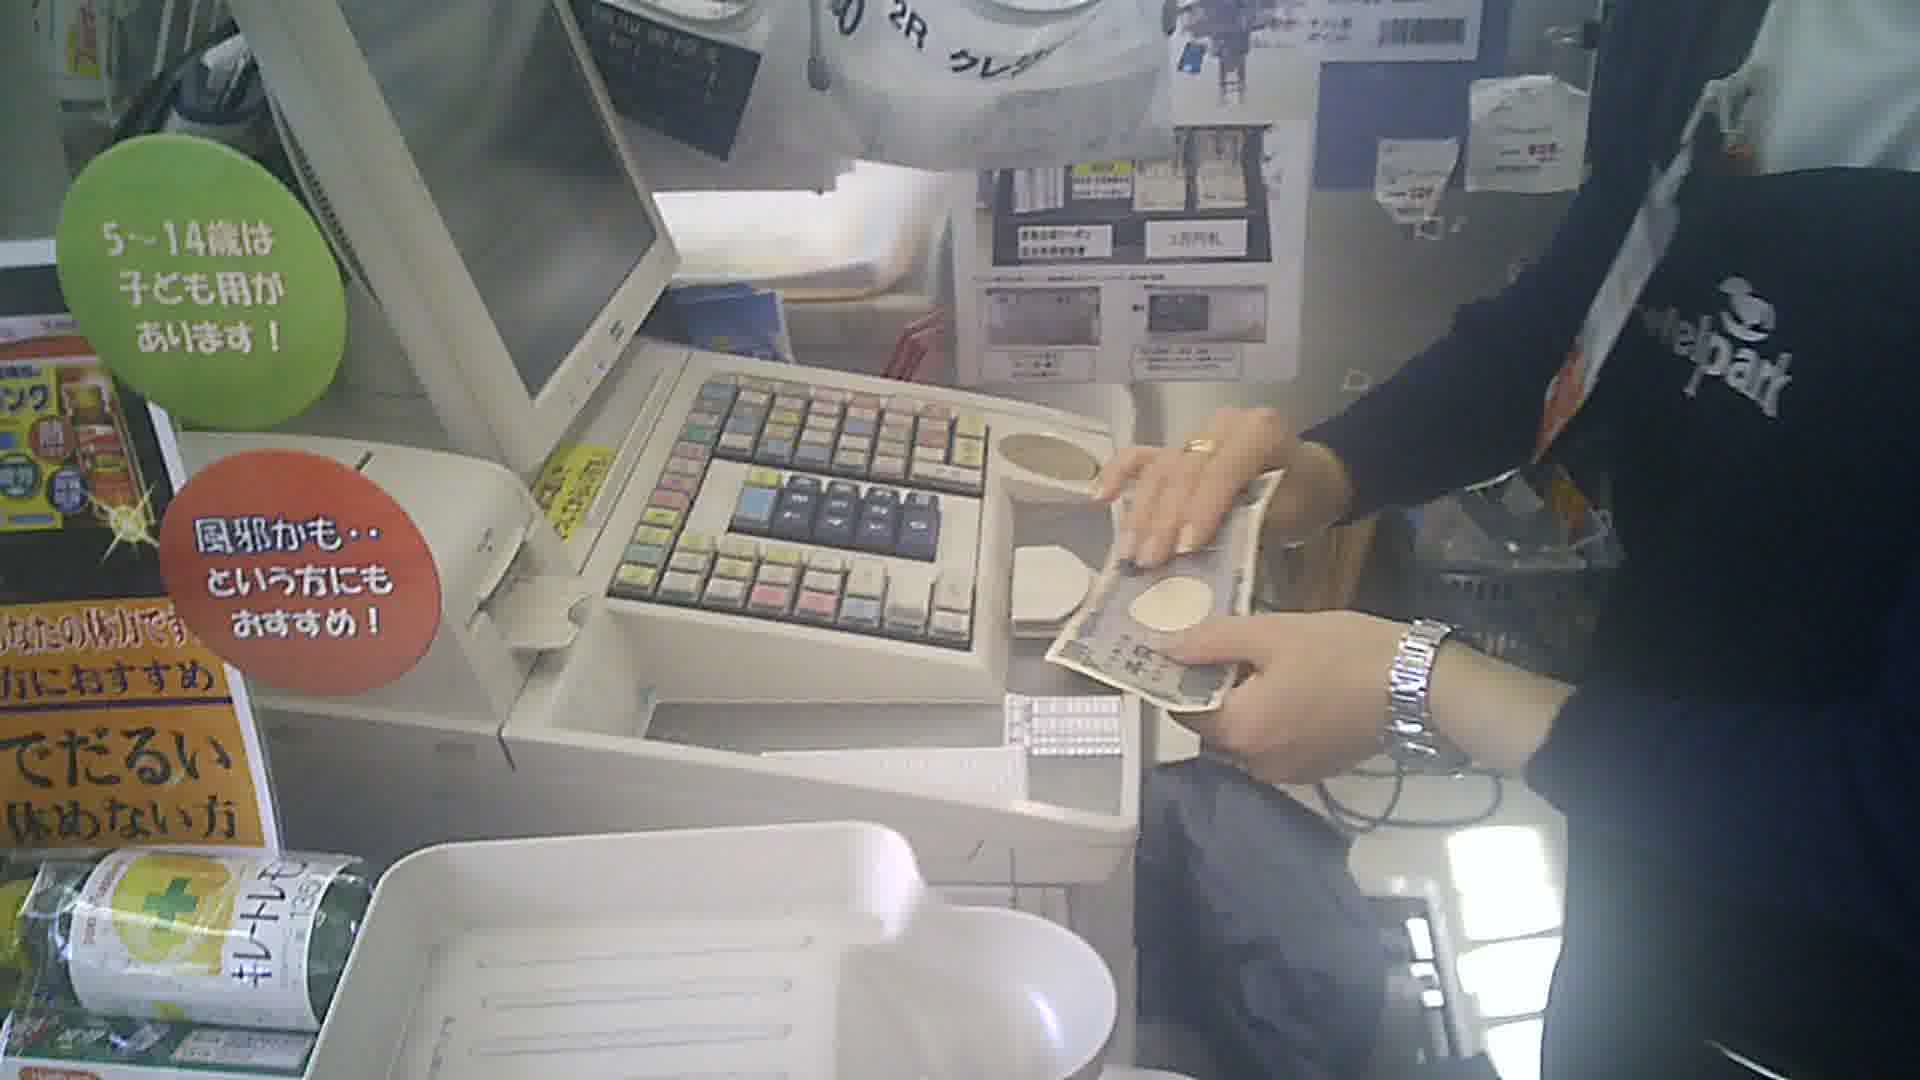1,000 Yen: (1040, 436, 1300, 717)
